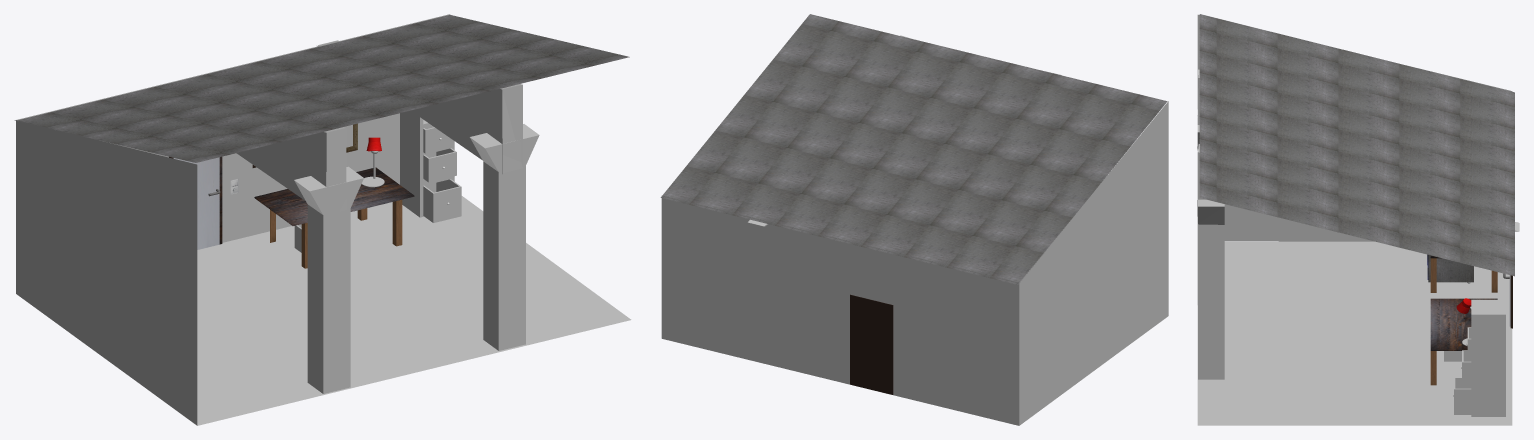
The model's file is Werkstatt.dae.
3 renders of one model, left to right at view 1: azimuth 30°, elevation 25°; view 2: azimuth 150°, elevation 25°; view 3: azimuth 270°, elevation 25°, orthographic. The views are drawn at different scales.
Visible parts, largest first — view 1: Boden, Wand_001, Dach, Pfeiler, Pfeiler_001, Wand, Wand_003, Wand_002, Spind, Tischplatte_, Tuer_001, Schublade_ (+2 smaller); view 2: Dach, Wand, Wand_001, Aussentuer; view 3: Dach, Boden, Pfeiler_001, Spind, Wand_001, Tischplatte_, Wand_003, Unterschrank, Schublade_.
Part boxes in pixels (x1,y1,x2,y2): Boden: (166,196,631,425); Wand_001: (16,120,197,425); Dach: (14,15,629,162); Pfeiler: (294,166,363,393); Pfeiler_001: (470,124,539,350); Wand: (17,14,450,242); Wand_003: (317,40,522,173); Wand_002: (236,127,346,211); Spind: (400,110,454,217); Tischplatte_: (254,167,414,225); Tuer_001: (173,157,219,249); Schublade_: (423,179,461,222); Dach: (660,14,1167,284); Wand: (661,196,1019,425); Wand_001: (1019,101,1168,425); Aussentuer: (850,294,893,394); Dach: (1199,14,1514,276); Boden: (1197,241,1512,425); Pfeiler_001: (1198,199,1224,379); Spind: (1471,299,1505,416); Wand_001: (1197,14,1512,241); Tischplatte_: (1430,298,1497,350); Wand_003: (1197,144,1519,231); Unterschrank: (1428,255,1473,282); Schublade_: (1454,377,1471,414).
Bounding box in the file's own units: 23 × 17.03 × 13.28.
